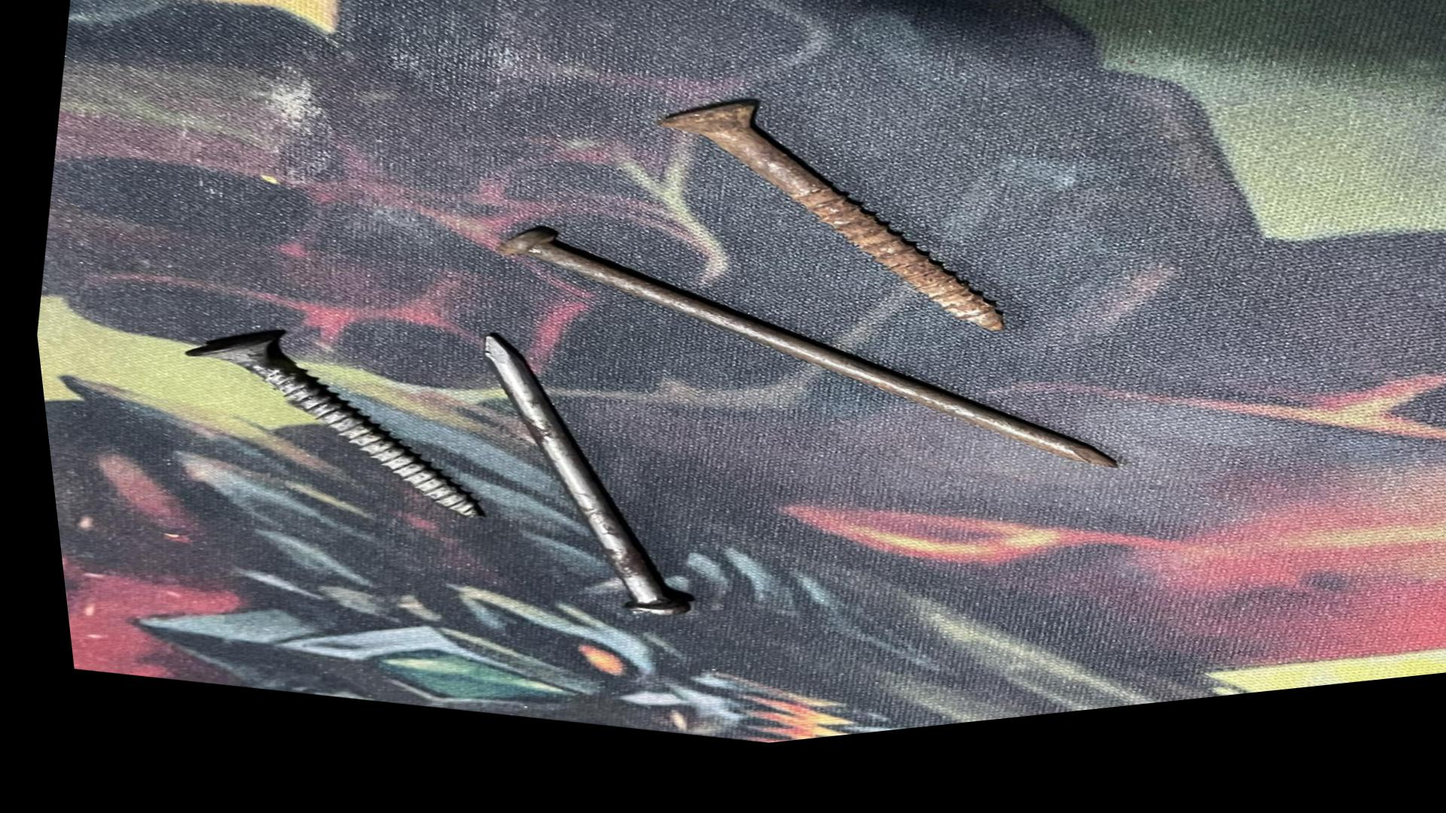nail: (441, 174, 1168, 557), (395, 307, 801, 680)
screw: (603, 66, 1071, 400), (108, 281, 519, 567)
